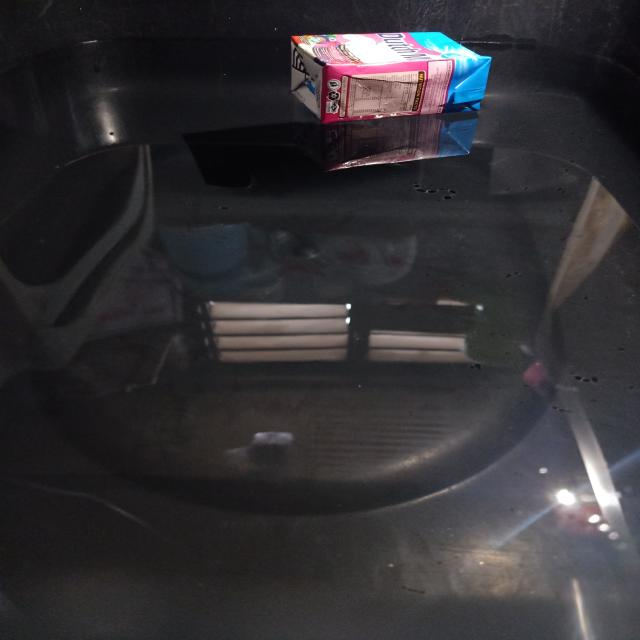Cardboard Box: (291, 32, 491, 123)
